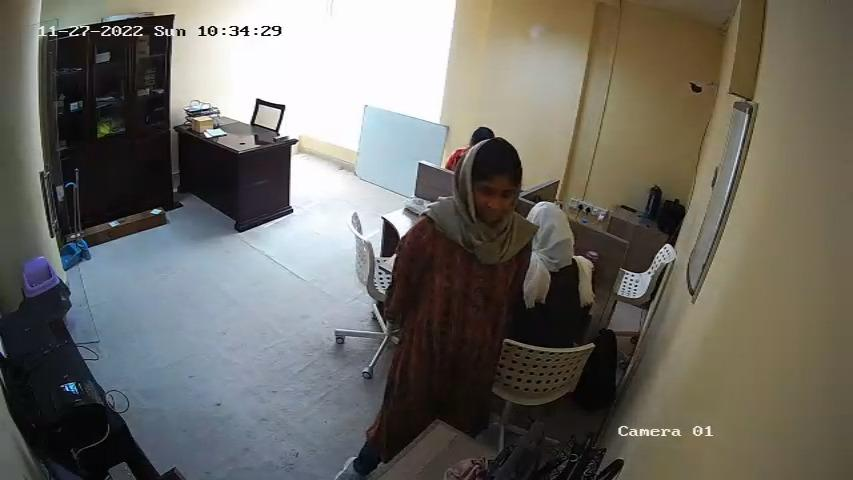no_apron: (405, 226, 516, 364)
